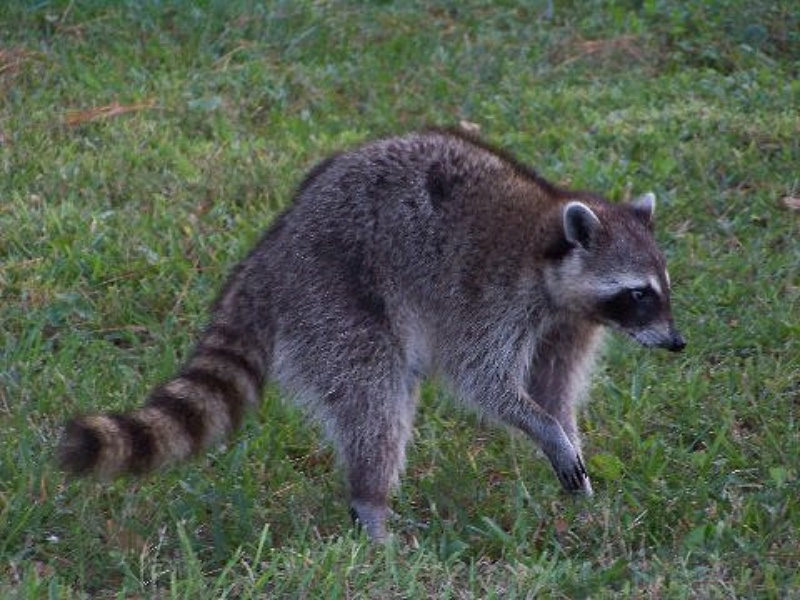raccoon: (44, 129, 689, 556)
